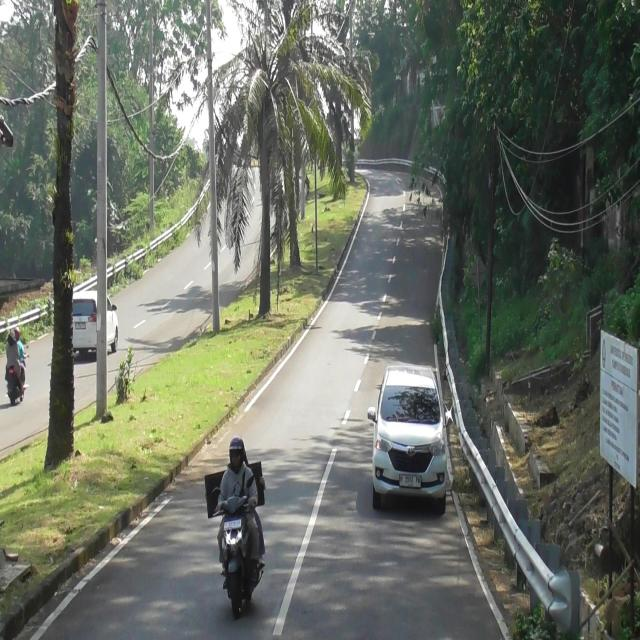motorcycle: (216, 492, 261, 620), (7, 365, 26, 404)
person: (218, 436, 258, 510), (15, 327, 30, 386), (6, 328, 21, 377)
rider_region: (215, 432, 264, 616), (2, 325, 28, 410)
